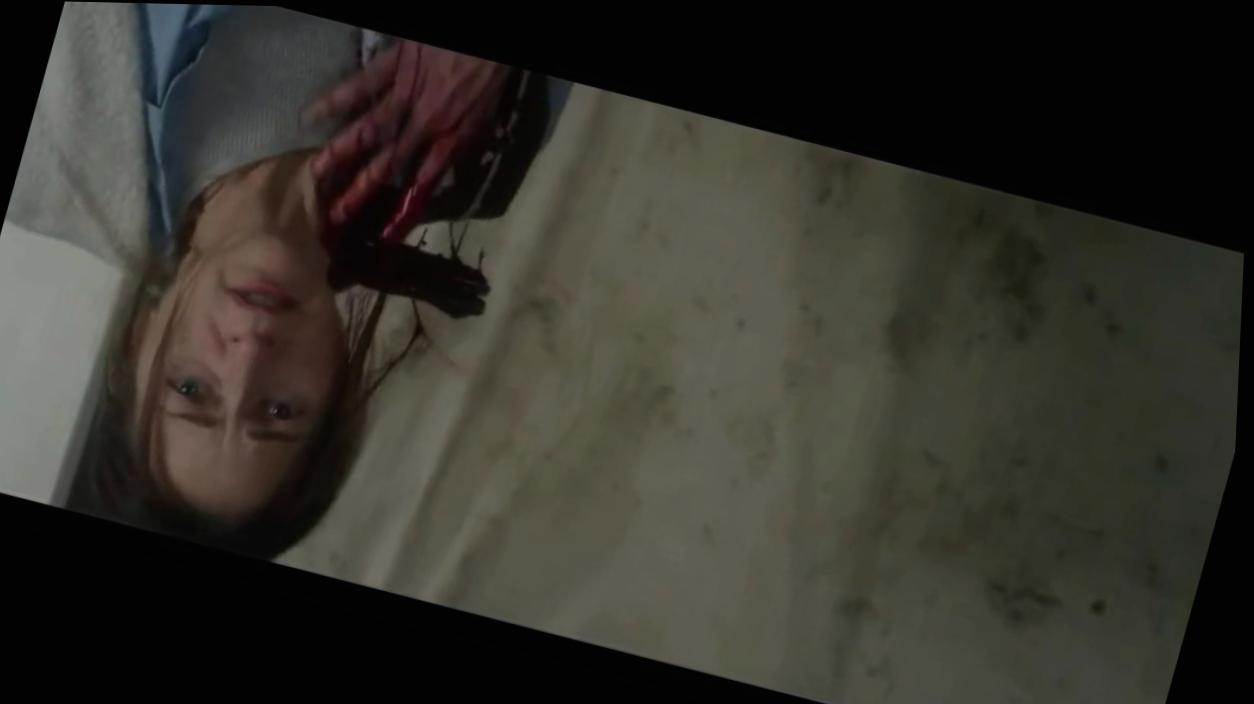Fire: (306, 41, 553, 315)
